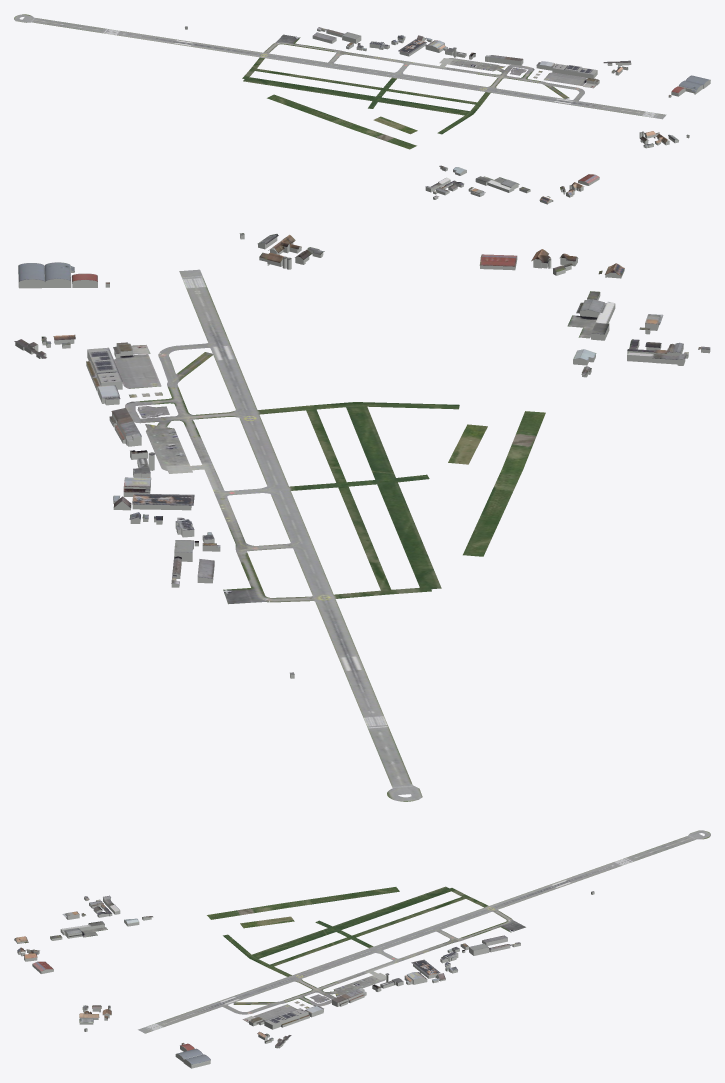
The model's file is LSZB_Airport.glb.
3 views of the same model, one above another, from view 1: azimuth 30°, elevation 25°; view 2: azimuth 150°, elevation 25°; view 3: azimuth 270°, elevation 25° (orthographic). The views are drawn at different scales.
Parts seen in each view (by area): view 1: pavement_LSZB_pavement_5209_2391, pavement_LSZB_pavement_5208_2391, pavement_LSZB_pavement_5209_2390, pavement_LSZB_pavement_5208_2392, pavement_LSZB_pavement_5208_2390, pavement_LSZB_pavement_5210_2390, building_5046bdb63d08d200, building_dddf7d2e2a36c374; view 2: pavement_LSZB_pavement_5209_2391, pavement_LSZB_pavement_5208_2391, pavement_LSZB_pavement_5209_2390, pavement_LSZB_pavement_5208_2392, pavement_LSZB_pavement_5208_2390, pavement_LSZB_pavement_5210_2390, building_5046bdb63d08d200, building_dddf7d2e2a36c374, building_af59d3c08058c913; view 3: pavement_LSZB_pavement_5209_2391, pavement_LSZB_pavement_5208_2391, pavement_LSZB_pavement_5209_2390, pavement_LSZB_pavement_5208_2392, pavement_LSZB_pavement_5208_2390, pavement_LSZB_pavement_5210_2390, building_5046bdb63d08d200, building_dddf7d2e2a36c374.
Part boxes in pixels (box(x1,y1,x2,y2)): pavement_LSZB_pavement_5209_2391: box(300, 44, 556, 107); pavement_LSZB_pavement_5208_2391: box(242, 43, 378, 125); pavement_LSZB_pavement_5209_2390: box(417, 73, 613, 181); pavement_LSZB_pavement_5208_2392: box(44, 19, 296, 55); pavement_LSZB_pavement_5208_2390: box(343, 116, 417, 149); pavement_LSZB_pavement_5210_2390: box(563, 74, 666, 119); building_5046bdb63d08d200: box(369, 35, 432, 53); building_dddf7d2e2a36c374: box(669, 75, 710, 95); pavement_LSZB_pavement_5209_2391: box(122, 383, 395, 583); pavement_LSZB_pavement_5208_2391: box(250, 462, 518, 608); pavement_LSZB_pavement_5209_2390: box(122, 309, 593, 446); pavement_LSZB_pavement_5208_2392: box(227, 587, 405, 780); pavement_LSZB_pavement_5208_2390: box(448, 334, 590, 479); pavement_LSZB_pavement_5210_2390: box(114, 269, 215, 378); building_5046bdb63d08d200: box(113, 493, 194, 530); building_dddf7d2e2a36c374: box(18, 262, 109, 284); building_af59d3c08058c913: box(34, 347, 122, 387); pavement_LSZB_pavement_5209_2391: box(294, 928, 495, 1010); pavement_LSZB_pavement_5208_2391: box(294, 886, 499, 928); pavement_LSZB_pavement_5209_2390: box(89, 928, 294, 1014); pavement_LSZB_pavement_5208_2392: box(499, 842, 687, 928); pavement_LSZB_pavement_5208_2390: box(99, 901, 294, 928); pavement_LSZB_pavement_5210_2390: box(138, 1015, 279, 1033); building_5046bdb63d08d200: box(411, 951, 458, 981); building_dddf7d2e2a36c374: box(176, 1043, 210, 1065).
Bounding box in the file's own units: 1376 × 29.72 × 1700.
3 materials, 2 textured.
